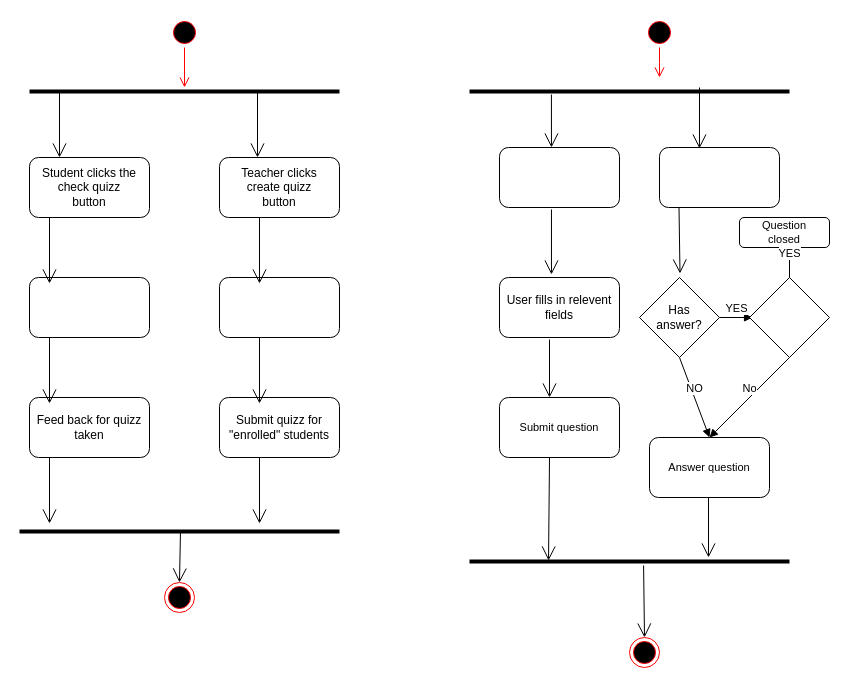
Image size: 847x685. Some labels were removed from this diagram. The shapes that lost their labels are listed below. From the top down, each one's centre as x and y in pixels, then its label:
At (x=559, y=177): "User clicks post question button".
At (x=719, y=177): "User clicks on a question".
At (x=89, y=307): "Student takes available quizzes".
At (x=279, y=307): "Set questions for one quizz at a time".
At (x=789, y=317): "Is answer verified?".
